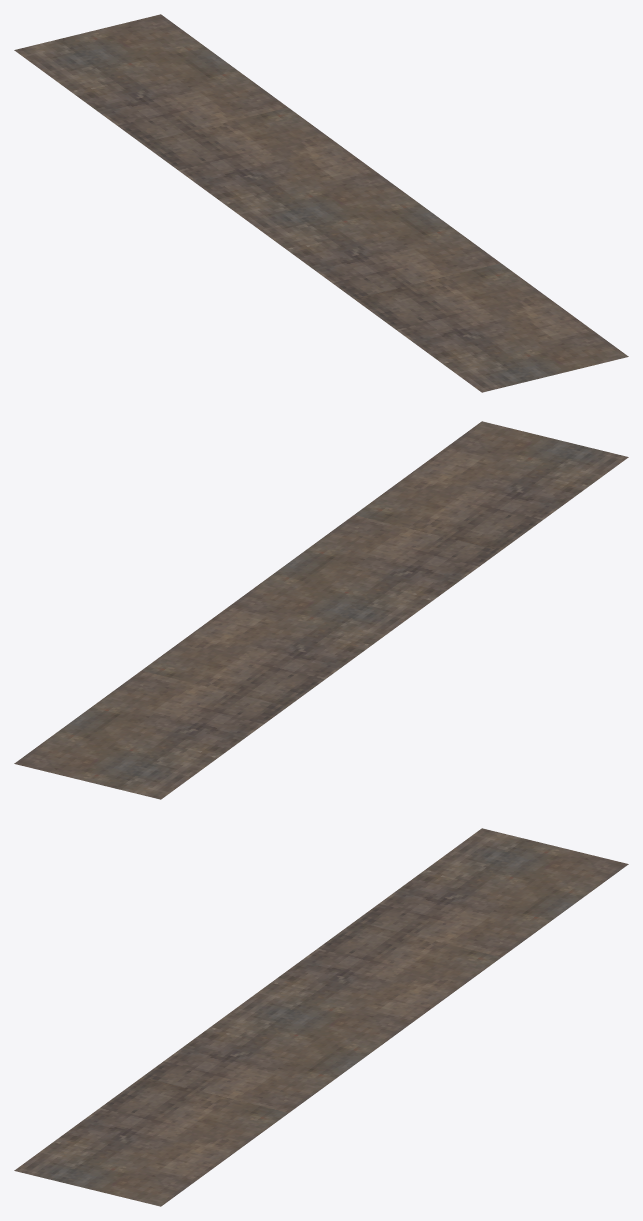
The model's file is sewer room f1 walkway floor.fbx.
The picture shows the model from 3 angles, top to bottom: view 1: azimuth 30°, elevation 25°; view 2: azimuth 150°, elevation 25°; view 3: azimuth 330°, elevation 25°; orthographic projection.
Visible parts, largest first — view 1: pPlane1; view 2: pPlane1; view 3: pPlane1.
Boxes of the visible parts, left/top/right/bottom form: pPlane1: left=14, top=14, right=628, bottom=392; pPlane1: left=14, top=421, right=628, bottom=799; pPlane1: left=14, top=828, right=628, bottom=1206.
Size of the model in its own units: 450 by 0 by 2481.
